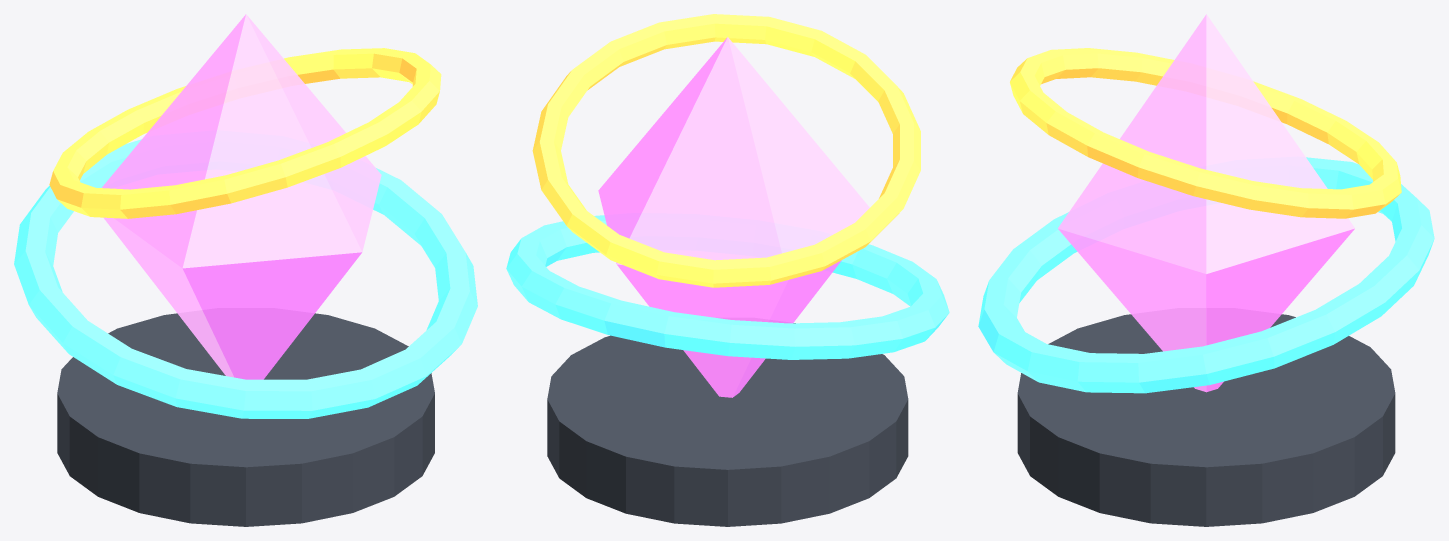
File: AXM-PICKUP-GEM-001_LOD1.glb
3 renders of one model, left to right at view 1: azimuth 30°, elevation 25°; view 2: azimuth 150°, elevation 25°; view 3: azimuth 270°, elevation 25°, orthographic. The views are drawn at different scales.
Parts seen in each view (by area): view 1: gem, base, lower_orbit, upper_orbit; view 2: base, gem, upper_orbit, lower_orbit; view 3: base, gem, lower_orbit, upper_orbit.
Part boxes in pixels (x1,y1,x2,y2): gem: [102, 14, 381, 379]; base: [57, 313, 434, 526]; lower_orbit: [14, 139, 477, 418]; upper_orbit: [49, 48, 441, 218]; base: [547, 323, 908, 526]; gem: [598, 37, 869, 397]; upper_orbit: [532, 14, 920, 287]; lower_orbit: [506, 215, 949, 359]; base: [1017, 314, 1395, 526]; gem: [1058, 14, 1354, 392]; lower_orbit: [978, 157, 1434, 393]; upper_orbit: [1010, 48, 1401, 218].
Bounding box in the file's own units: 0.5648 × 0.58 × 0.554.
